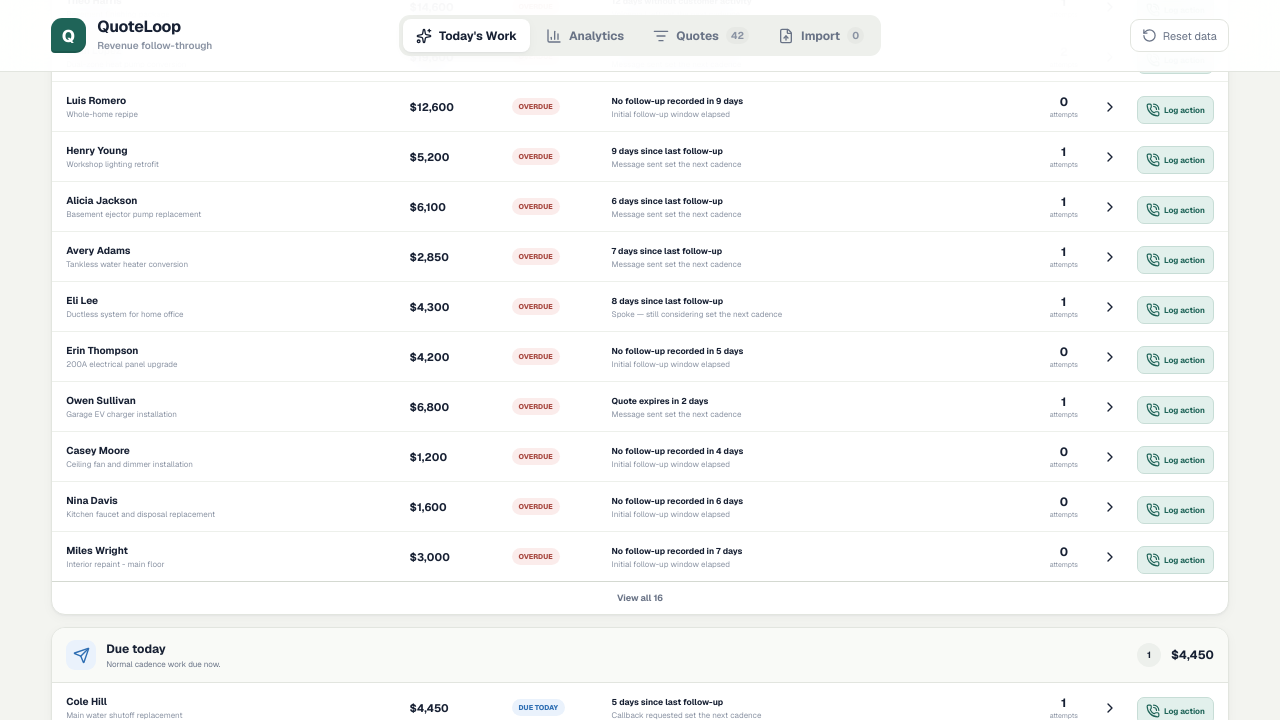
it: daily recovery operating loop › updates analytics after an explicit terminal outcome
(page scrolled)
Click the 6th button "Log action" at (1175, 360), box [1137,346,1214,374]
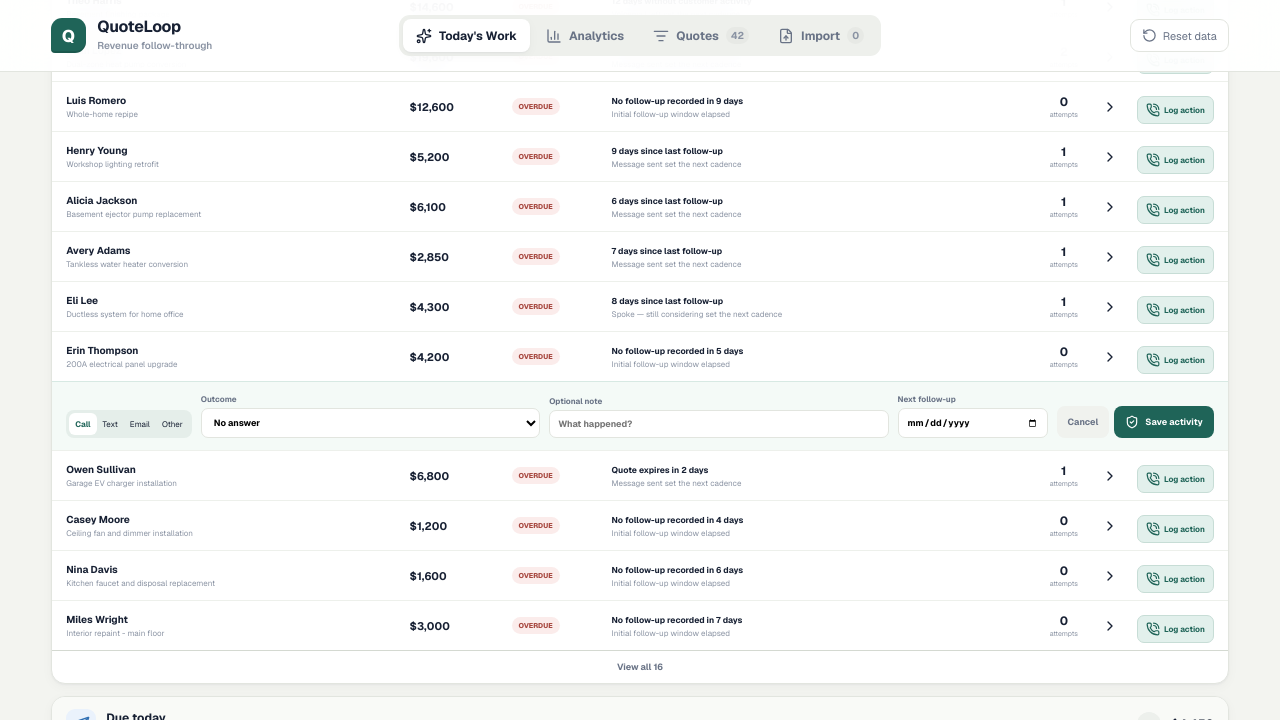
Select "Verbally accepted / ready to proceed" in the dropdown named "Outcome for Erin Thompson" at (370, 423), box [201,408,540,438]
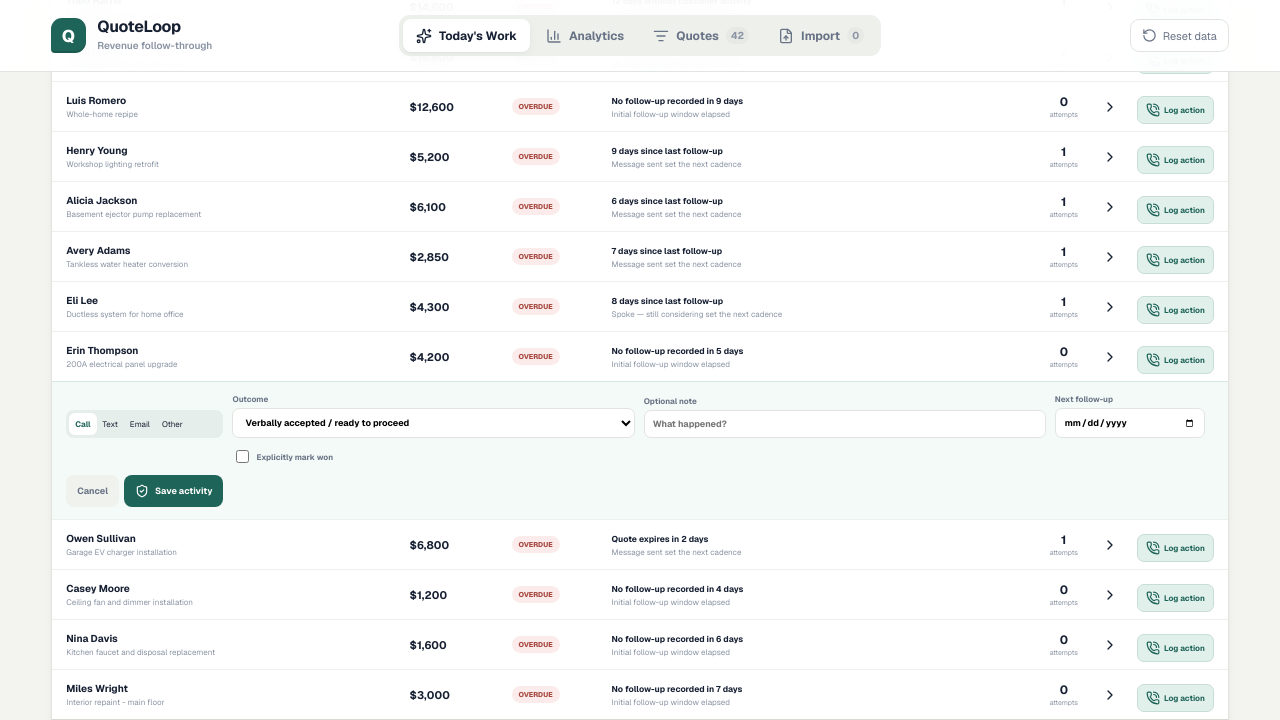
Click the checkbox labelled "Explicitly mark won" at (243, 457), box [236,450,250,463]
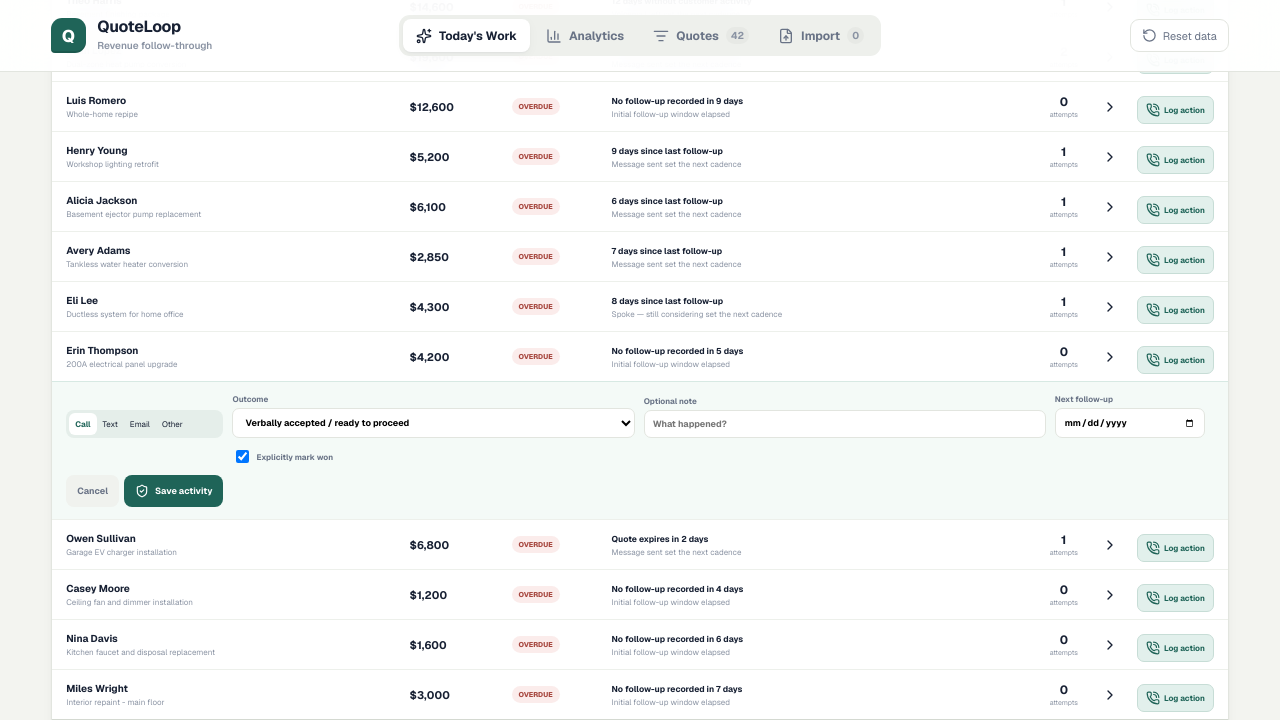
Click the button "Save activity" at (174, 491), box [124,475,224,507]
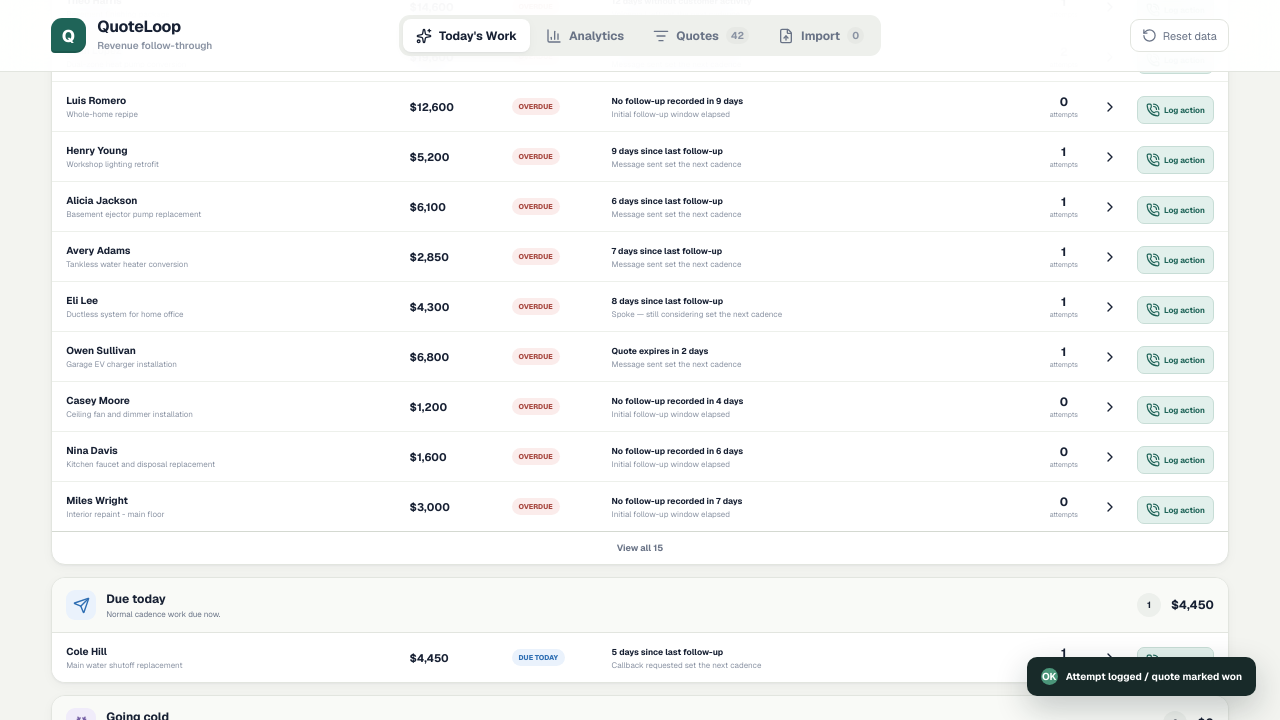
Click the button "Analytics" at (585, 36), box [533,19,637,52]
(page scrolled)
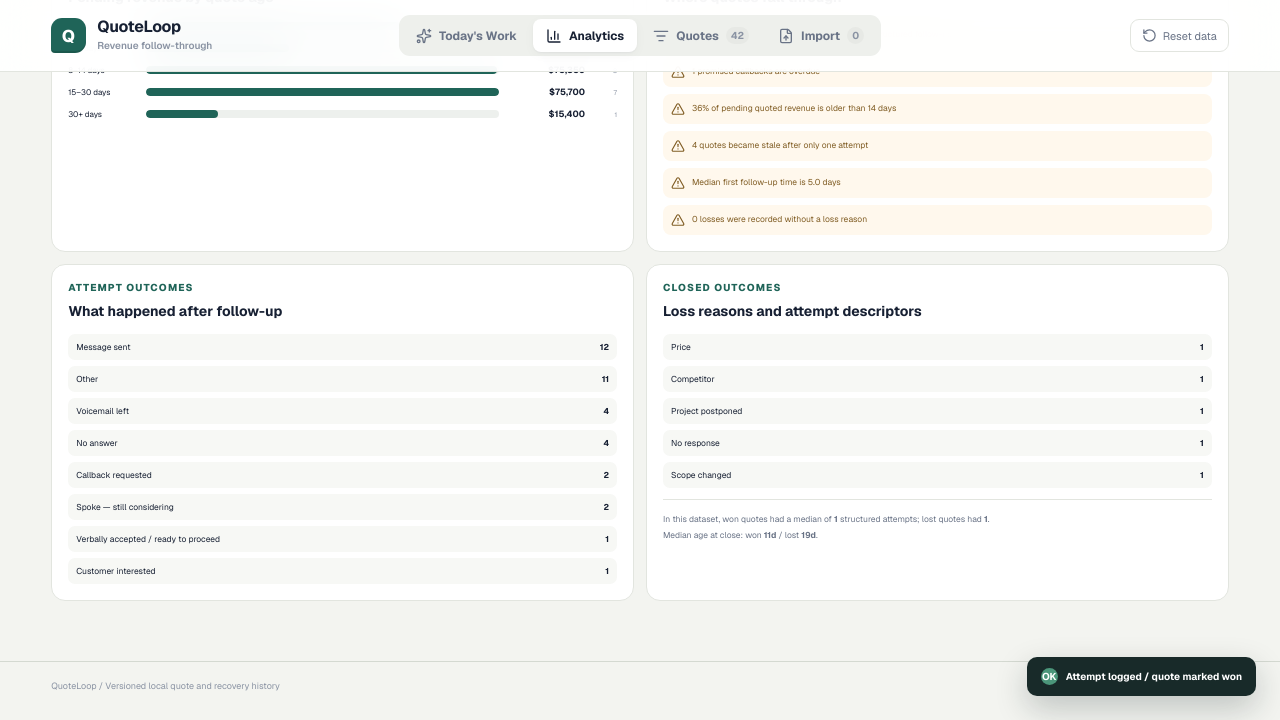
Expected: the text "won quotes had a median" is shown, [663,513,834,525]
